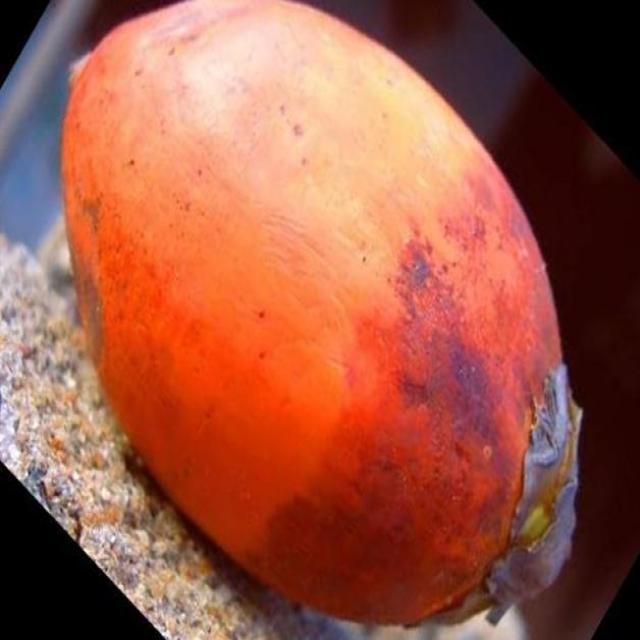good: (60, 0, 583, 628)
